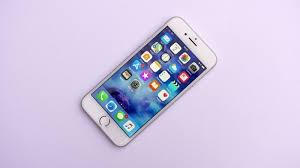iphone: (70, 15, 221, 150)
iphone8: (70, 15, 221, 150)
